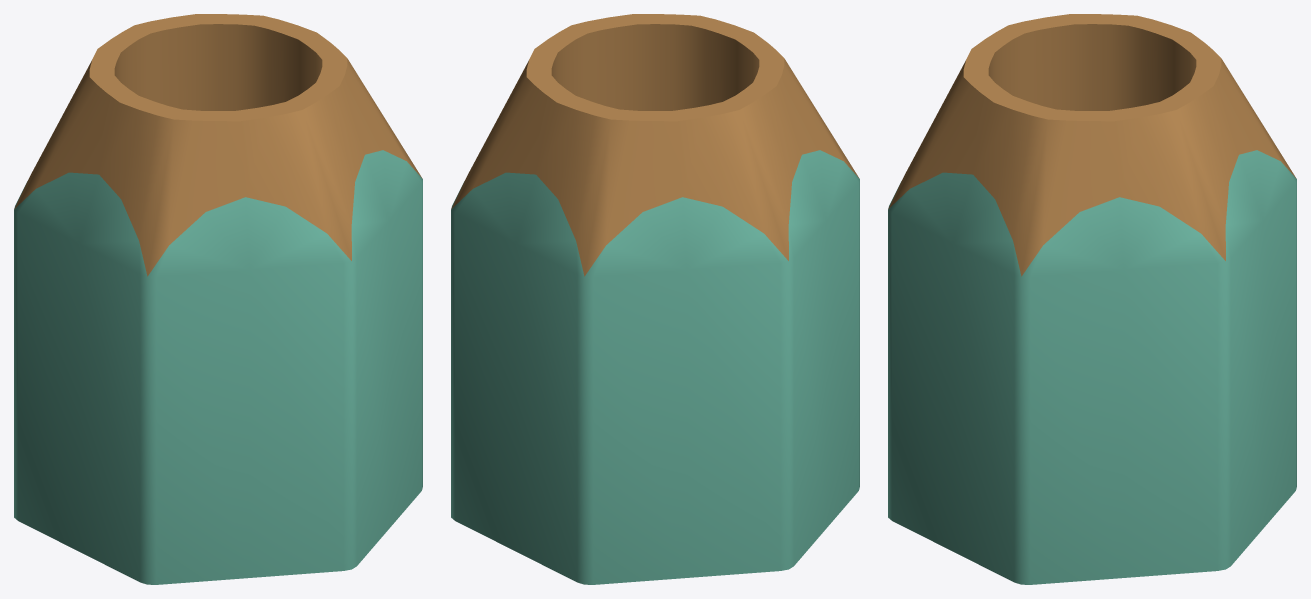
The model's file is SM_PencilHolder.fbx.
The picture shows the model from 3 angles, left to right: view 1: azimuth 30°, elevation 25°; view 2: azimuth 150°, elevation 25°; view 3: azimuth 270°, elevation 25°; orthographic projection.
Visible parts, largest first — view 1: SM_PencilHolder; view 2: SM_PencilHolder; view 3: SM_PencilHolder.
Part boxes in pixels (left/top/right/bottom): SM_PencilHolder: left=14, top=14, right=422, bottom=584; SM_PencilHolder: left=451, top=14, right=859, bottom=584; SM_PencilHolder: left=888, top=14, right=1296, bottom=584.
Size of the model in its own units: 627 by 656 by 769.
